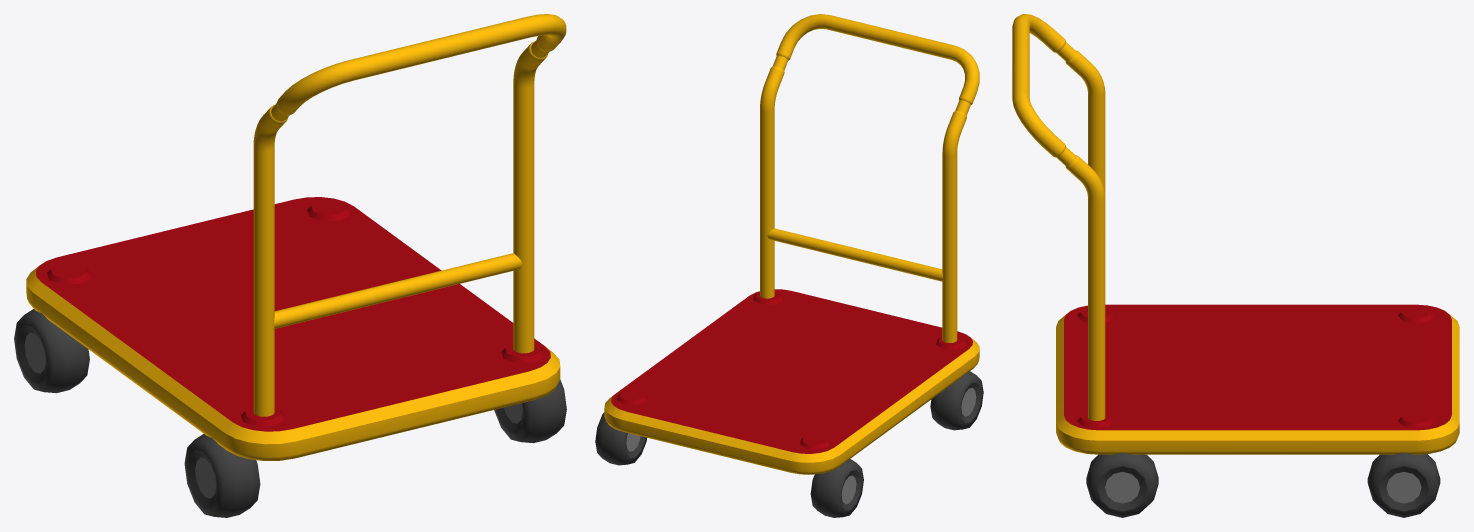
File: Cart.fbx
3 renders of one model, left to right at view 1: azimuth 30°, elevation 25°; view 2: azimuth 150°, elevation 25°; view 3: azimuth 270°, elevation 25°, orthographic. The views are drawn at different scales.
Visible parts, largest first — view 1: Cart; view 2: Cart; view 3: Cart.
Part boxes in pixels (<box>): Cart: <box>14,14,566,517</box>; Cart: <box>595,14,983,517</box>; Cart: <box>1012,14,1459,517</box>.
Size of the model in its own units: 126 by 168 by 171.
